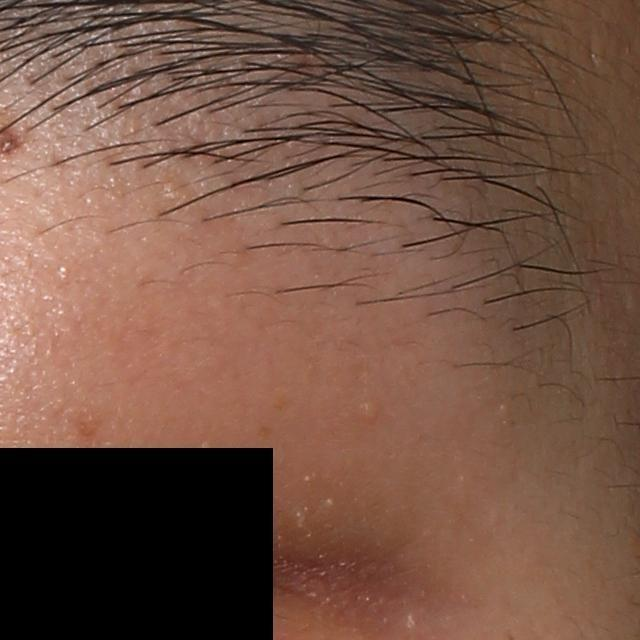melasma: (74, 406, 106, 444)
other: (356, 397, 384, 421), (324, 496, 336, 508)
